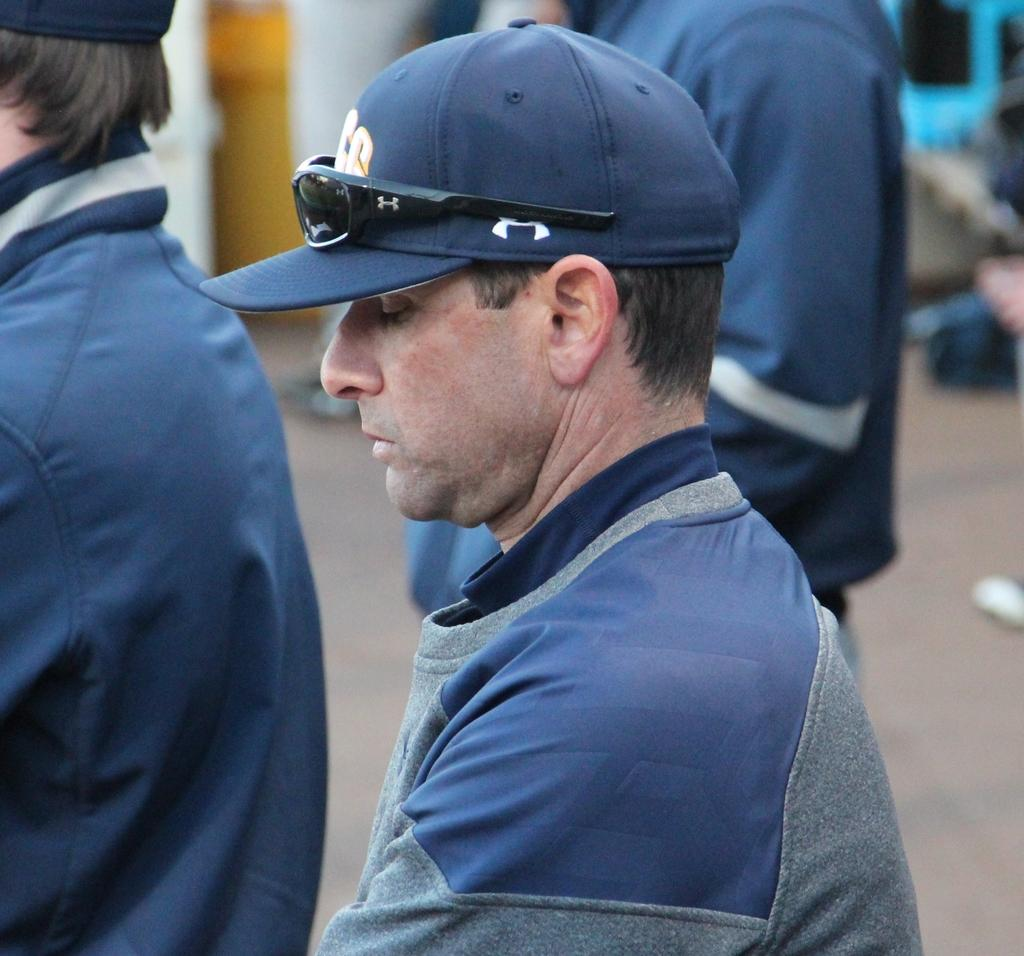Hat: (198, 12, 736, 316), (0, 0, 177, 40)
